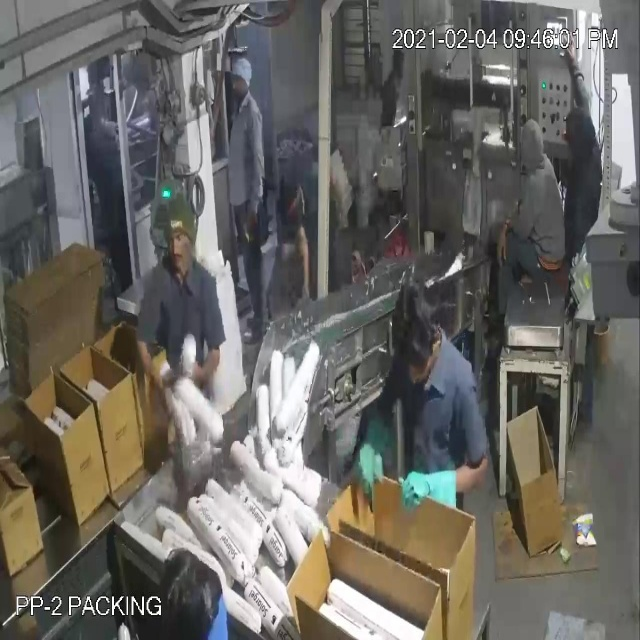Guantes: (399, 452, 498, 535), (349, 396, 394, 500)
Sin_guantes: (239, 98, 274, 236), (128, 329, 176, 409), (179, 328, 232, 395), (560, 31, 599, 122), (480, 203, 514, 277), (291, 210, 313, 315)
